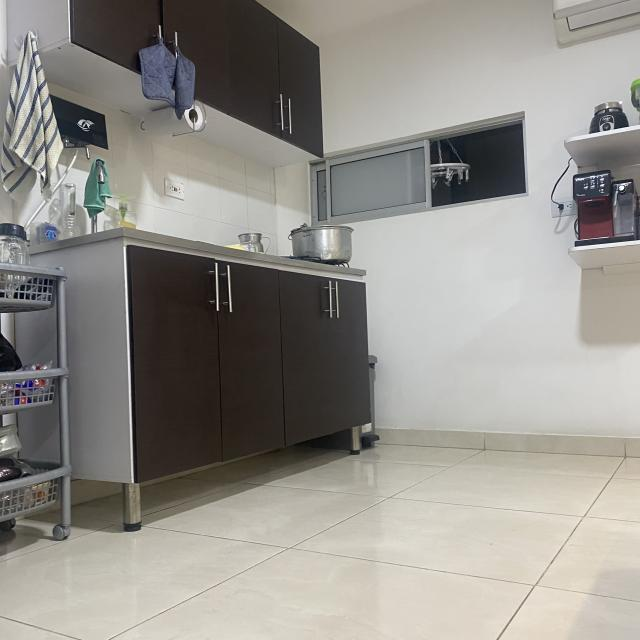obstacle: (81, 220, 386, 534), (0, 227, 75, 541)
